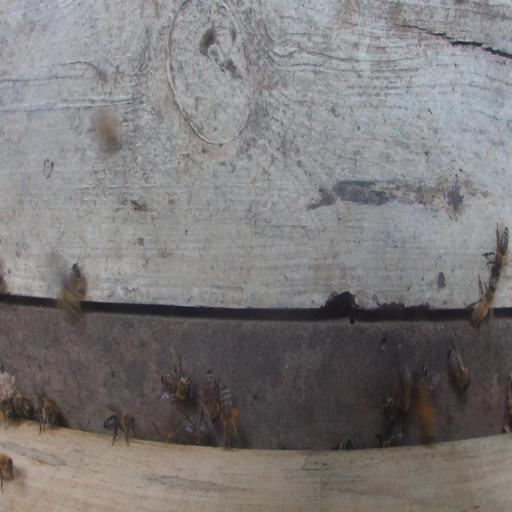nonpollenbee: (467, 272, 498, 332), (161, 357, 195, 402), (103, 409, 137, 447), (174, 414, 211, 445), (447, 339, 469, 391), (62, 261, 82, 315), (202, 368, 220, 422), (493, 225, 509, 276), (398, 363, 413, 415), (422, 361, 441, 398), (11, 392, 35, 420), (377, 424, 404, 447), (0, 450, 15, 491), (39, 394, 56, 427), (382, 395, 398, 421)
pollenbee: (220, 385, 239, 447), (0, 399, 12, 421)
